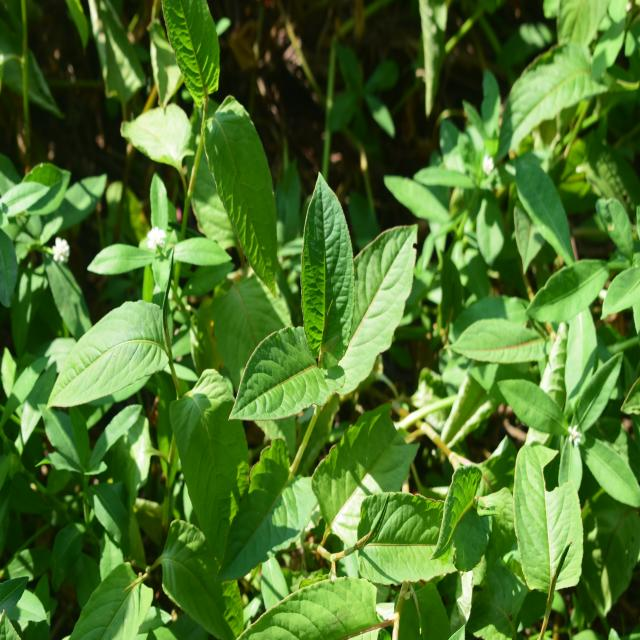Chinese_knotweed: (48, 278, 287, 576), (263, 186, 411, 456)
